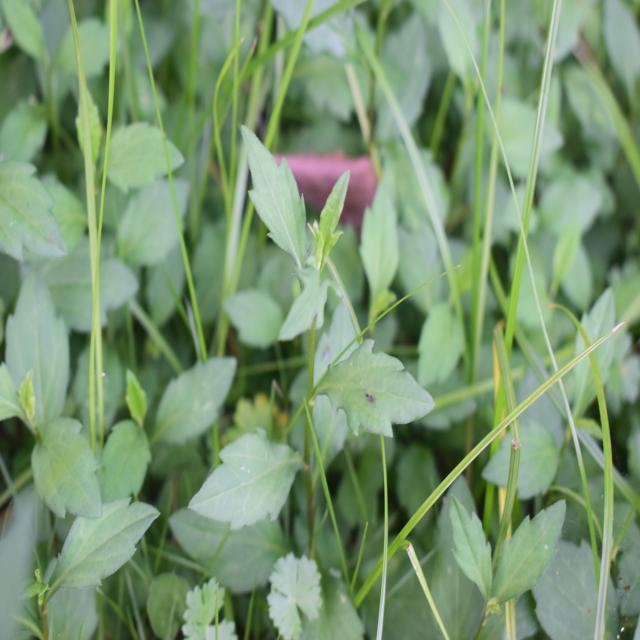Indian aster: (212, 125, 418, 554)
